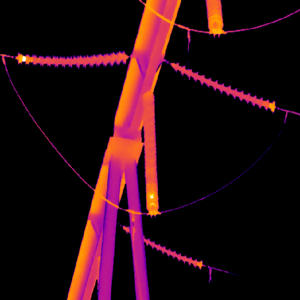insulator: (171, 60, 276, 111), (141, 88, 159, 211), (141, 233, 203, 268), (15, 48, 127, 65), (204, 0, 223, 33)
